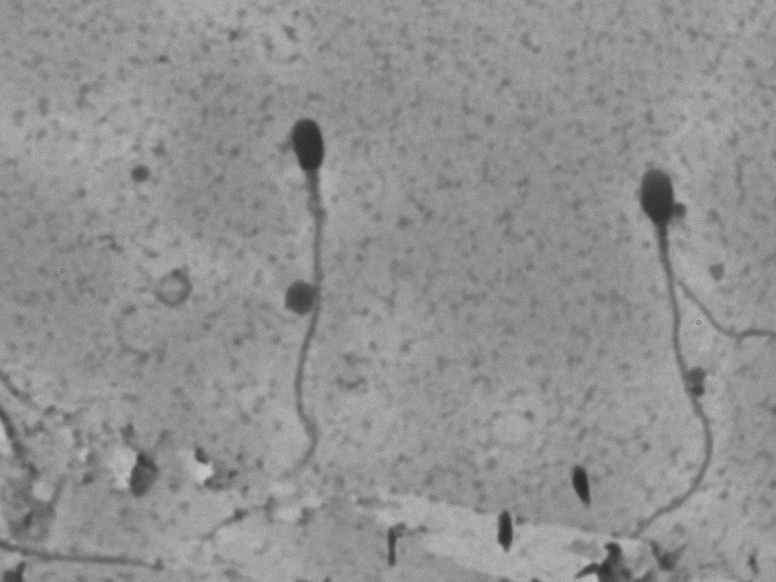Abnormal: (232, 96, 369, 498)
Normal: (628, 162, 720, 537)
